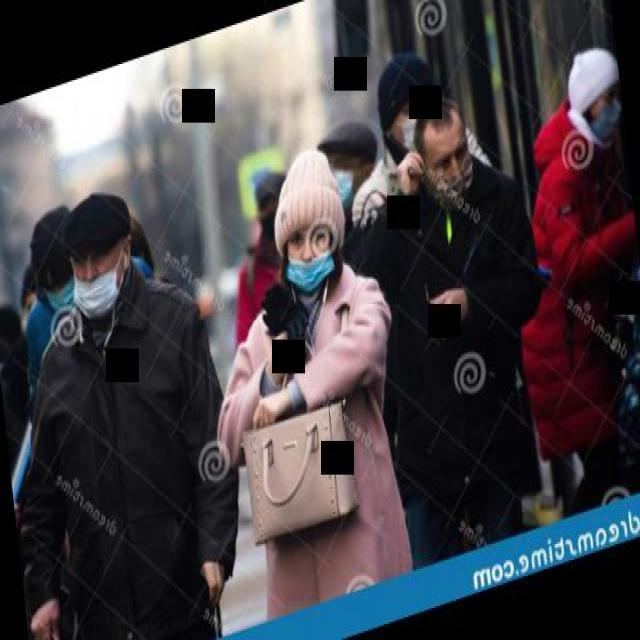hairnet: (282, 243, 332, 293), (75, 264, 119, 314)
